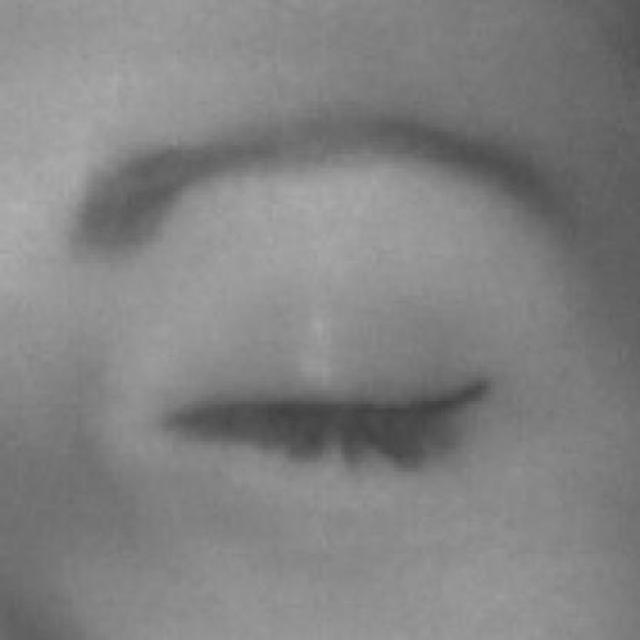drowsy: (174, 301, 497, 557)
